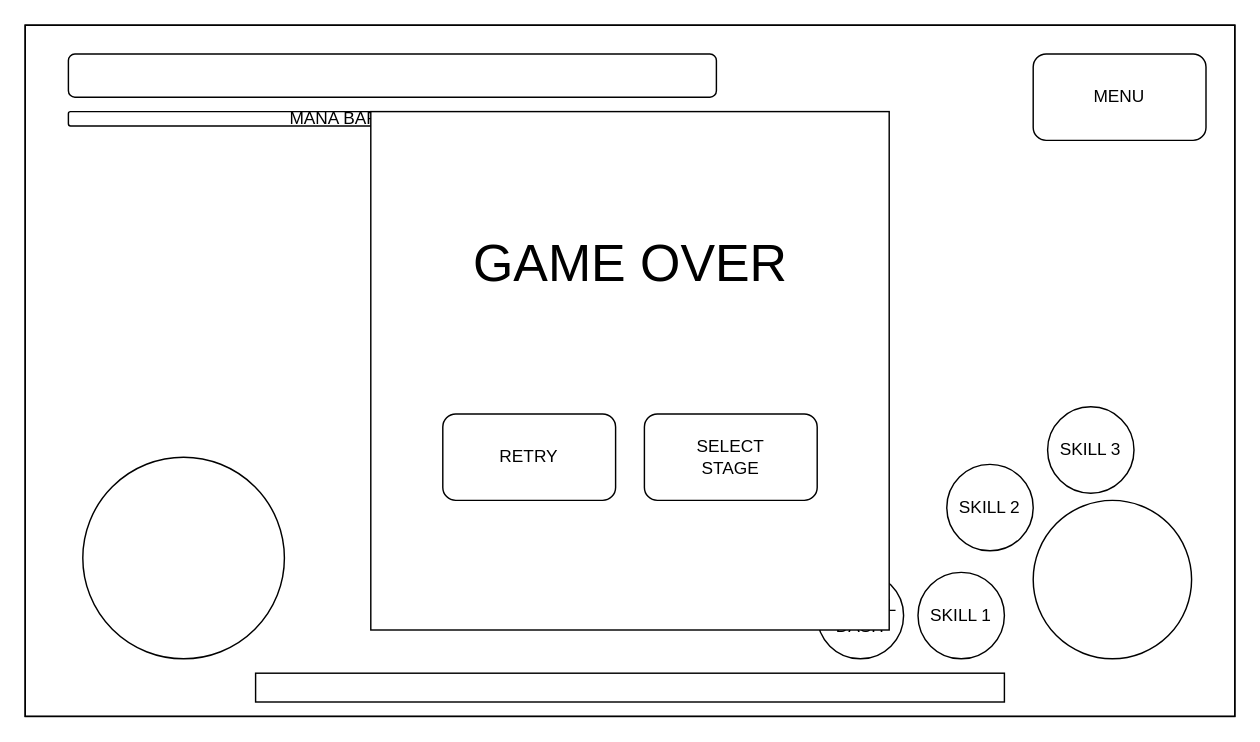
The diagram is 1260 pixels wide and 742 high, and some of its shapes have lost their labels. Here are the shapes that lost their labels. From the top down, the box of each, then its label:
(67, 53, 716, 97): HEALTH BAR
(81, 456, 284, 659): JOYSTICK
(1032, 499, 1192, 659): TOMBOL ATTACK
(254, 672, 1004, 702): XP BAR
